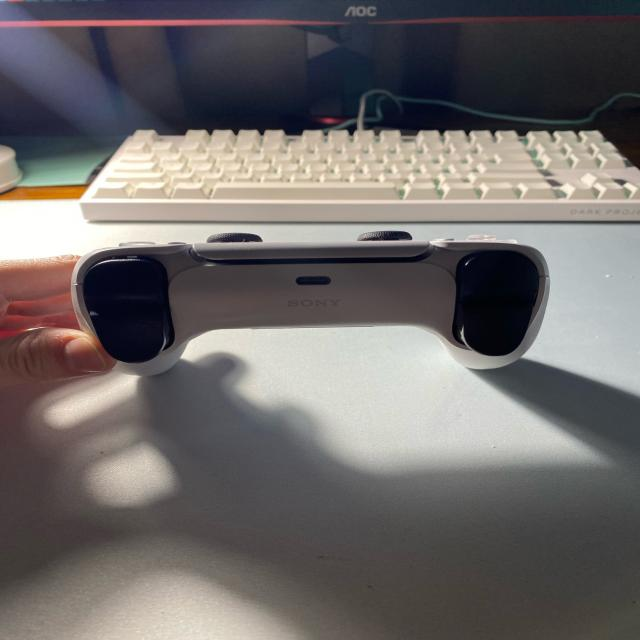dualsensePhoto: (71, 238, 548, 374), (72, 240, 548, 375), (170, 264, 453, 349), (83, 256, 173, 362), (453, 250, 538, 356), (207, 232, 263, 242), (357, 231, 412, 241), (287, 299, 342, 306), (295, 276, 332, 285)
